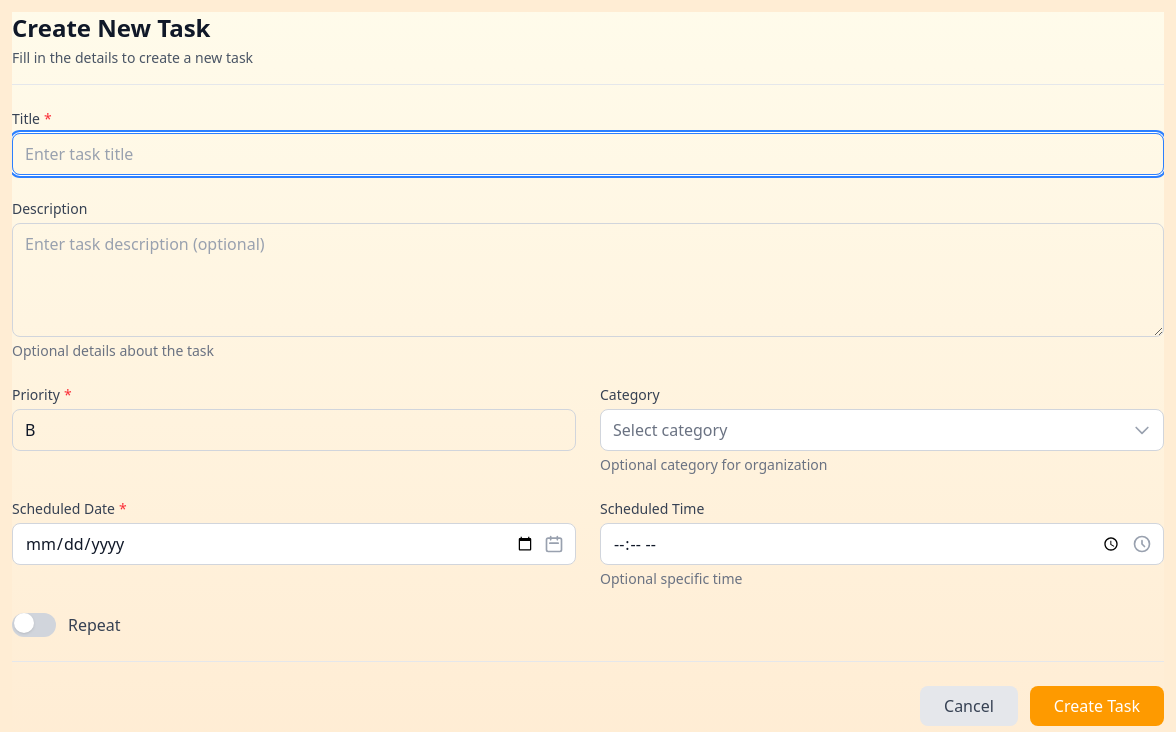
Scenario: TaskForm - Field Interactions › should allow selecting category through custom dropdown
Open the category dropdown
Click the button with test id "category-select-trigger". click: (670, 430)
box: x1=600 y1=409 x2=1164 y2=451
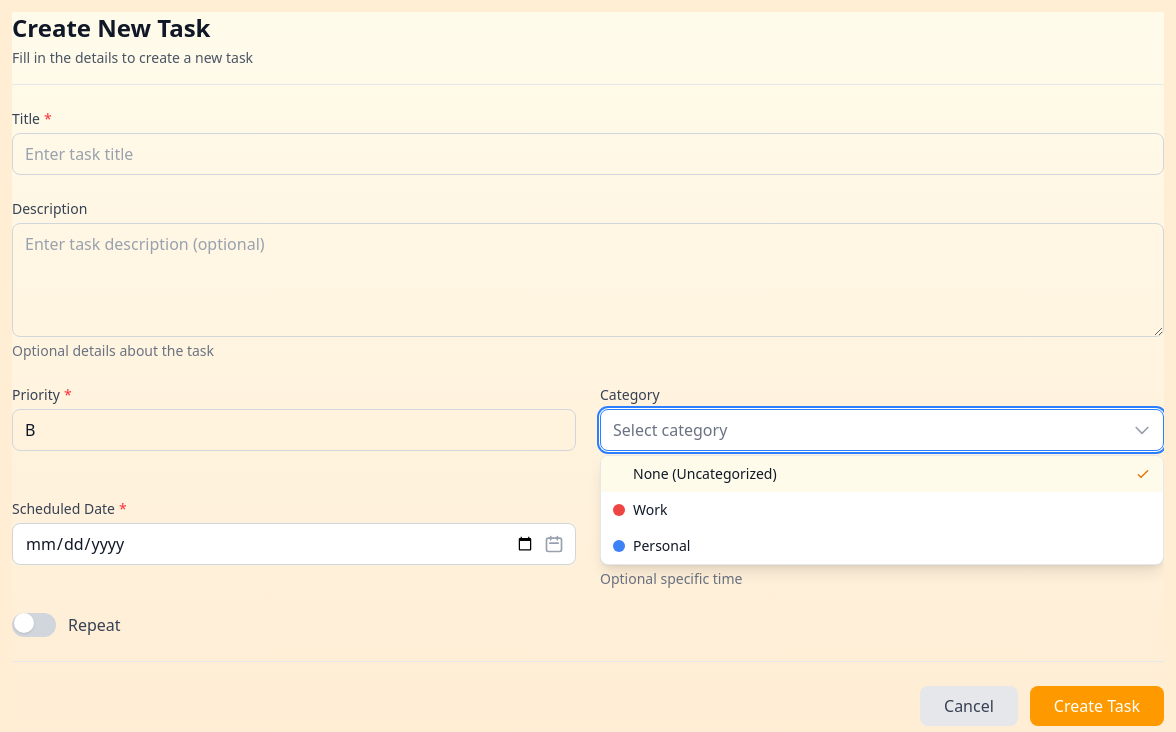
Select "Personal" category
Click the option with test id "category-option-cat-2". click: (662, 546)
box: x1=601 y1=528 x2=1163 y2=564
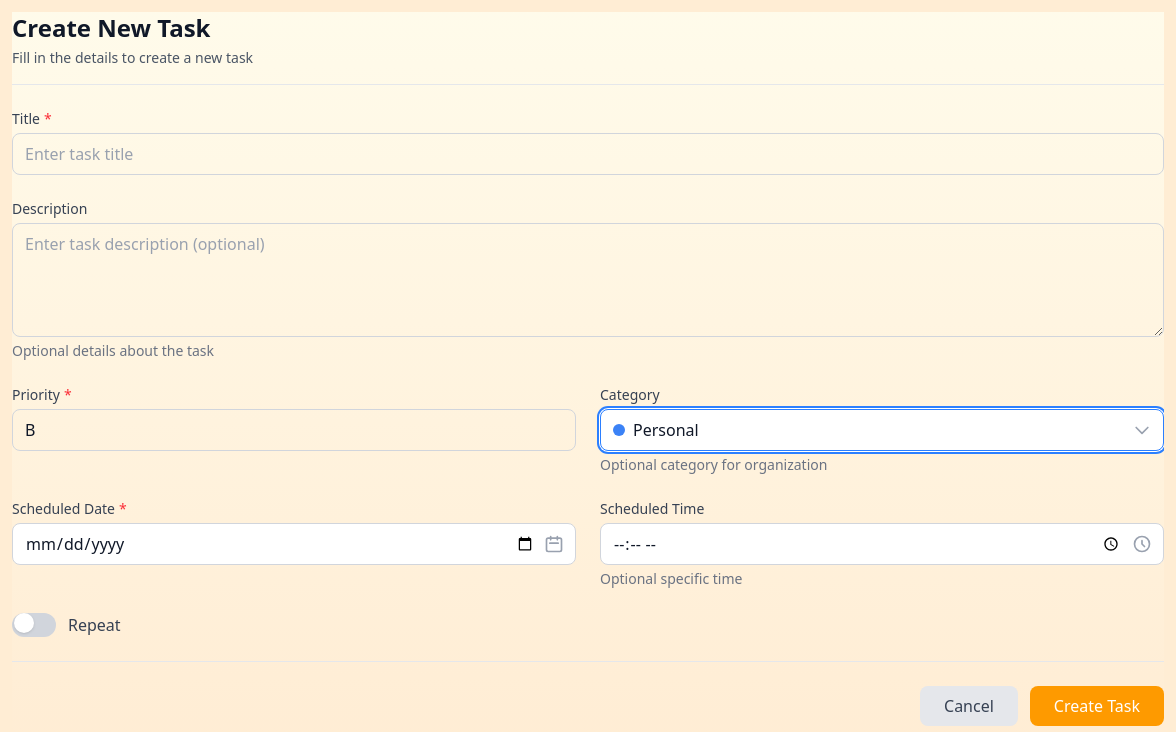
Check: the text "Personal" is shown, box x1=633 y1=419 x2=699 y2=441
